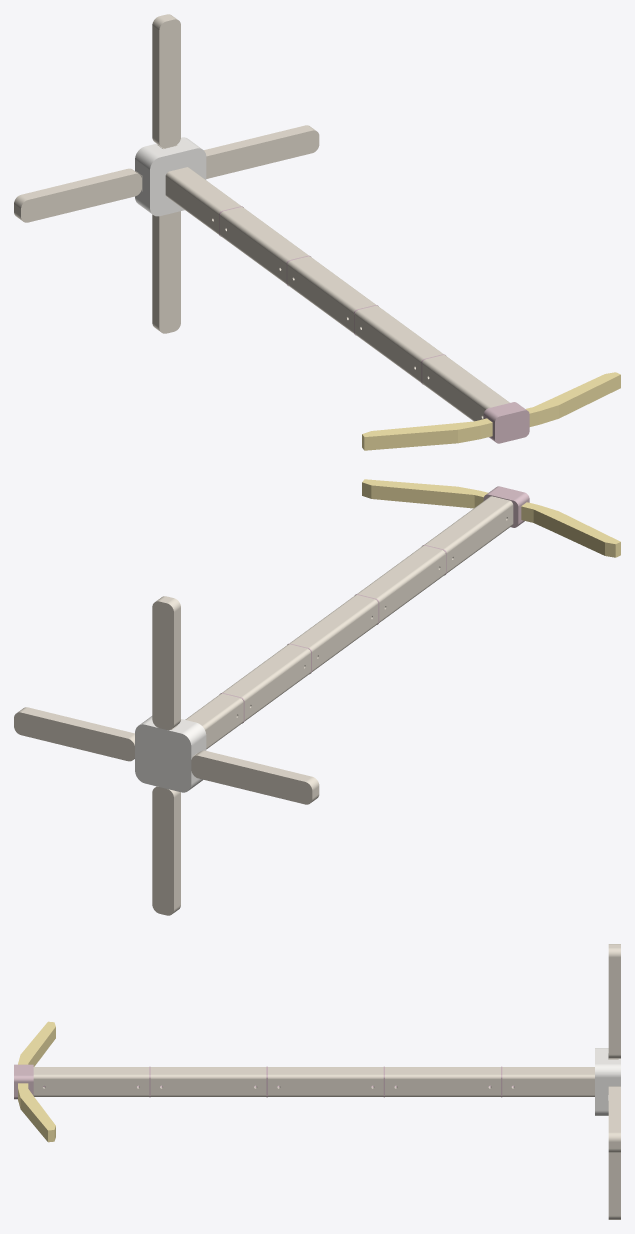
File: outfit-valet-research.glb
The picture shows the model from 3 angles, top to bottom: view 1: azimuth 30°, elevation 25°; view 2: azimuth 150°, elevation 25°; view 3: azimuth 270°, elevation 25°; orthographic projection. The views are drawn at different scales.
Visible parts, largest first — view 1: valet-base-leg__3, valet-base-leg__4, valet-base-leg__5, valet-base-leg__2, valet-base-hub__1, valet-column-160__12, valet-column-160__10, valet-column-160__8, valet-column-160__14, valet-shoulder-arm__17, valet-column-160__6, valet-shoulder-arm__16 (+1 smaller); view 2: valet-base-hub__1, valet-base-leg__3, valet-base-leg__4, valet-base-leg__5, valet-base-leg__2, valet-column-160__14, valet-column-160__12, valet-column-160__8, valet-column-160__10, valet-shoulder-arm__16, valet-shoulder-arm__17, valet-column-160__6 (+1 smaller); view 3: valet-column-160__12, valet-column-160__14, valet-column-160__8, valet-column-160__10, valet-column-160__6, valet-base-leg__3, valet-base-hub__1, valet-shoulder-arm__16, valet-base-leg__5, valet-base-leg__2, valet-shoulder-arm__17, valet-shoulder-hub__15.
Boxes of the visible parts, x1,y1,x2,y2 form: valet-base-leg__3: (152, 14, 180, 148); valet-base-leg__4: (14, 168, 142, 222); valet-base-leg__5: (152, 211, 180, 333); valet-base-leg__2: (204, 125, 319, 178); valet-base-hub__1: (135, 137, 206, 216); valet-column-160__12: (354, 305, 443, 382); valet-column-160__10: (287, 256, 375, 333); valet-column-160__8: (220, 207, 308, 283); valet-column-160__14: (422, 355, 509, 421); valet-shoulder-arm__17: (362, 418, 492, 450); valet-column-160__6: (165, 167, 241, 234); valet-shoulder-arm__16: (525, 372, 620, 426); valet-base-hub__1: (135, 716, 206, 792); valet-base-leg__3: (152, 596, 180, 730); valet-base-leg__4: (191, 750, 319, 804); valet-base-leg__5: (152, 786, 180, 915); valet-base-leg__2: (14, 707, 134, 761); valet-column-160__14: (425, 496, 513, 573); valet-column-160__12: (357, 545, 445, 622); valet-column-160__8: (222, 644, 310, 721); valet-column-160__10: (290, 595, 378, 671); valet-shoulder-arm__16: (362, 479, 488, 508); valet-shoulder-arm__17: (521, 502, 620, 557); valet-column-160__6: (185, 693, 243, 749); valet-column-160__12: (150, 1067, 266, 1096); valet-column-160__14: (33, 1067, 149, 1096); valet-column-160__8: (385, 1067, 500, 1096); valet-column-160__10: (268, 1067, 383, 1096); valet-column-160__6: (502, 1067, 594, 1096); valet-base-leg__3: (608, 944, 620, 1059); valet-base-hub__1: (595, 1048, 620, 1115); valet-shoulder-arm__16: (18, 1083, 55, 1142); valet-base-leg__5: (608, 1152, 620, 1219); valet-base-leg__2: (608, 1086, 620, 1152); valet-shoulder-arm__17: (18, 1021, 55, 1066); valet-shoulder-hub__15: (14, 1064, 45, 1099).
Bounding box in the file's own units: 0.414 × 0.414 × 0.839.
